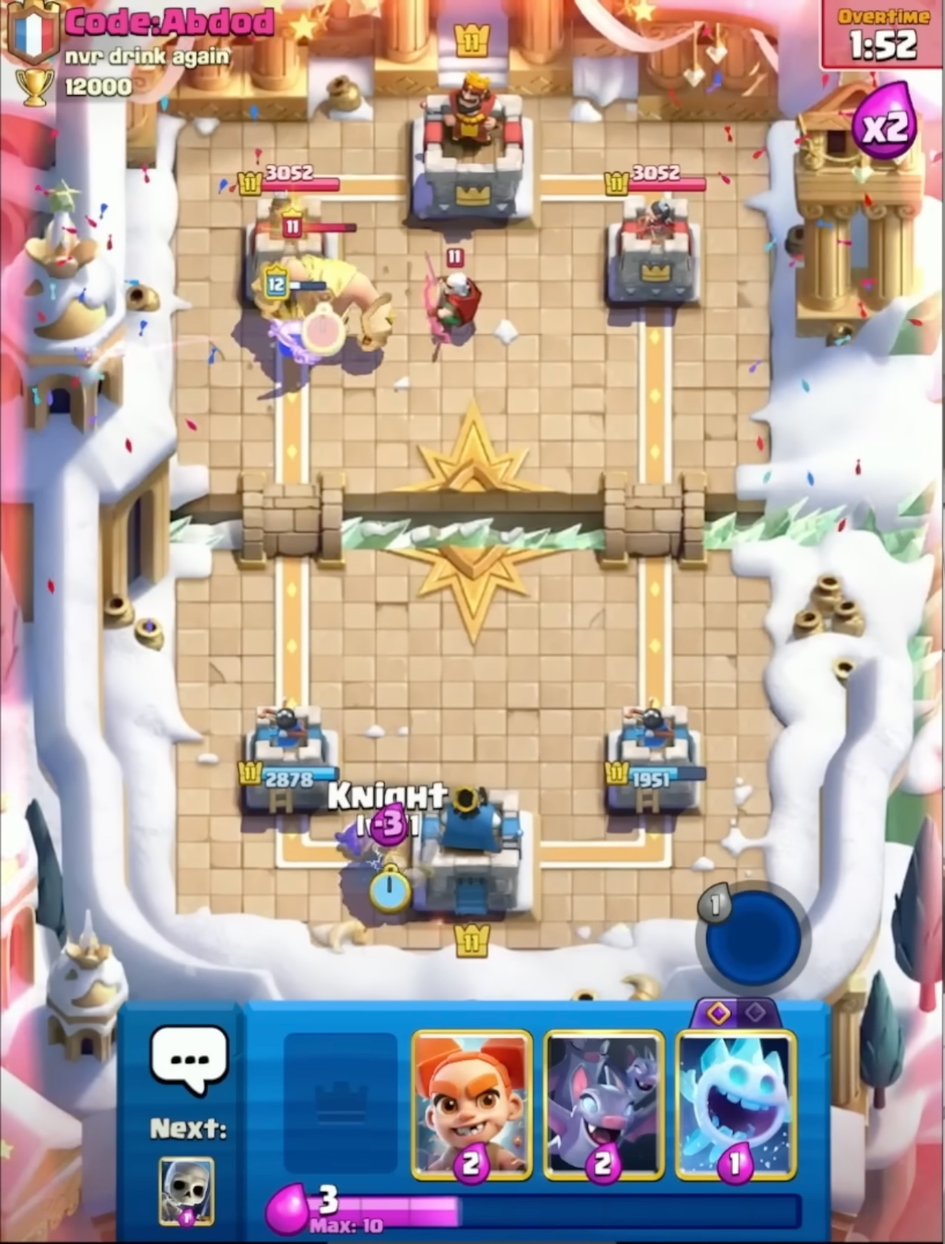hero-giant: (253, 213, 396, 368)
magic-archer: (416, 240, 493, 346)
